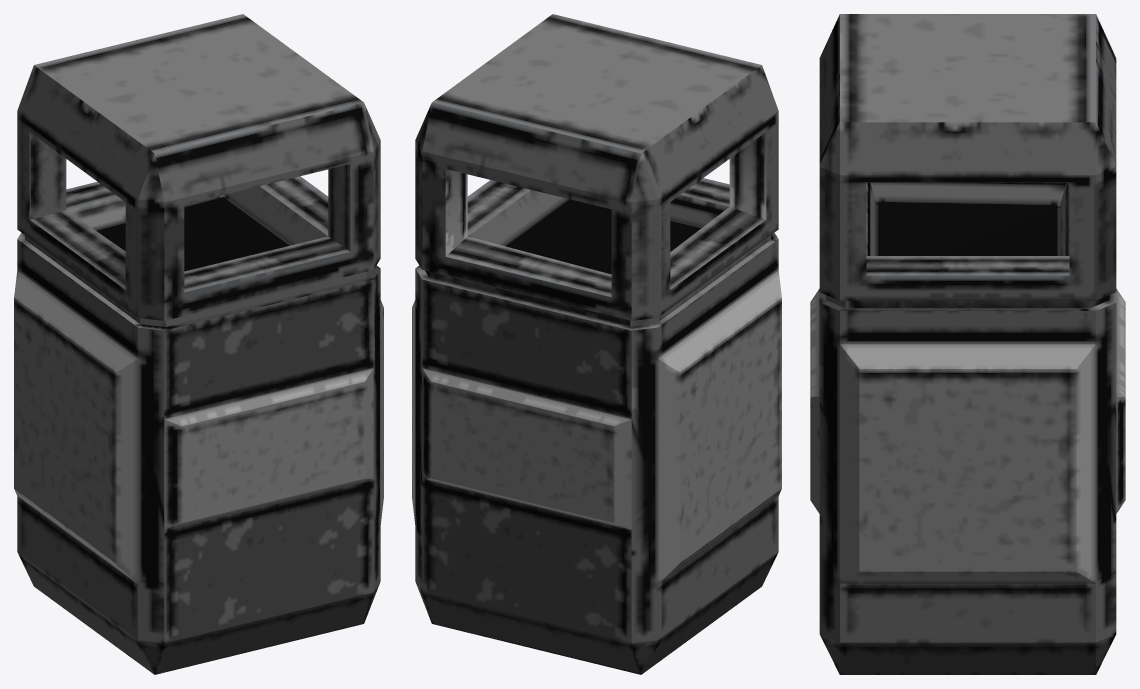
Rendered from TrashCan1.fbx.
3 views of the same model, side by side, from view 1: azimuth 30°, elevation 25°; view 2: azimuth 150°, elevation 25°; view 3: azimuth 270°, elevation 25° (orthographic). The views are drawn at different scales.
Visible parts, largest first — view 1: TrashCan1:pCube11; view 2: TrashCan1:pCube11; view 3: TrashCan1:pCube11.
Part boxes in pixels (box(x1,y1,x2,y2)): TrashCan1:pCube11: box(14, 14, 383, 674); TrashCan1:pCube11: box(412, 14, 781, 674); TrashCan1:pCube11: box(810, 14, 1125, 674).
Size of the model in its own units: 96.57 by 180 by 93.14.
